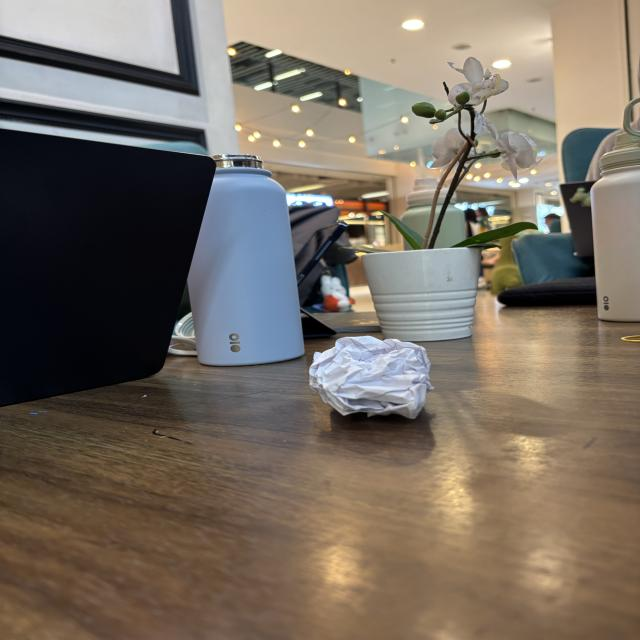crumpled_paper: (305, 329, 435, 422)
